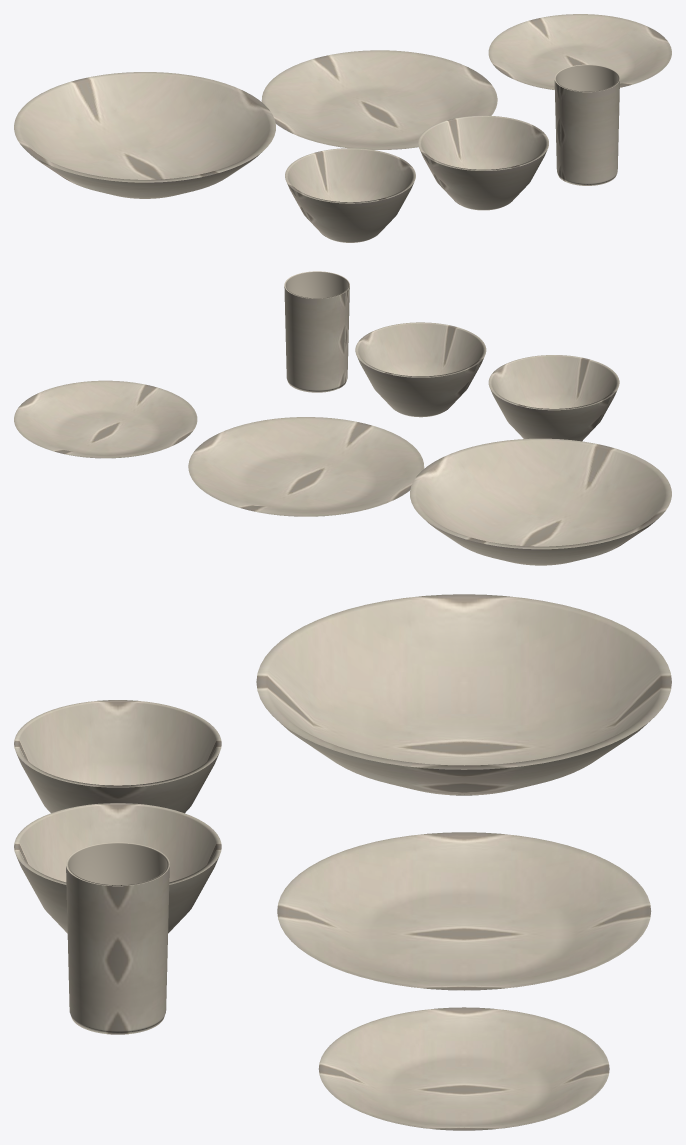
The model's file is COL-02.glb.
3 views of the same model, one above another, from view 1: azimuth 30°, elevation 25°; view 2: azimuth 150°, elevation 25°; view 3: azimuth 270°, elevation 25° (orthographic). The views are drawn at different scales.
Bounding box in the file's own units: 0.83 × 0.12 × 0.475.
12 materials, 11 textured.
